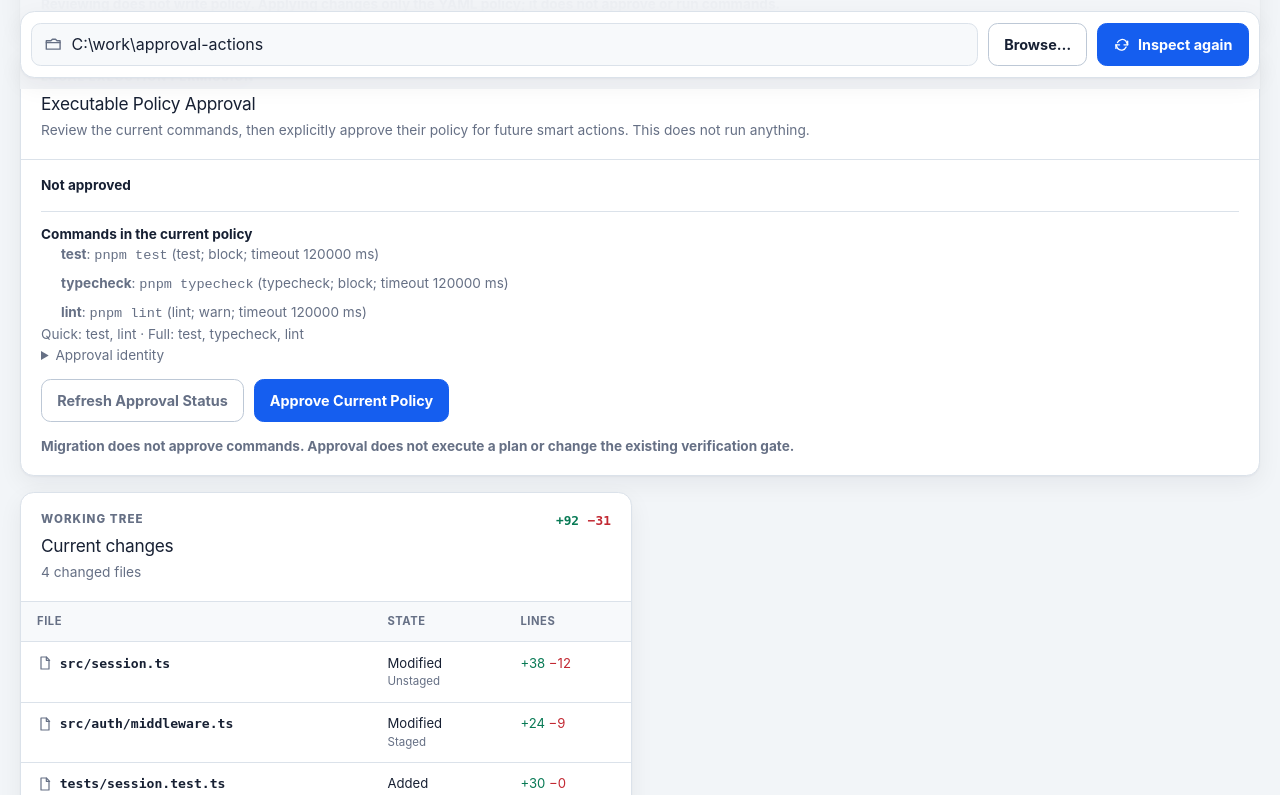
Test: desktop dashboard › explicitly approves the reviewed digest and revokes without running a command
(page scrolled)
Expected: the text "Not approved" is shown, [41,176,131,192]
Expected: the element "Executable Policy Approval" shows "pnpm test", [94,248,168,263]
Click the button "Approve Current Policy": x=351, y=401 [254,379,449,422]
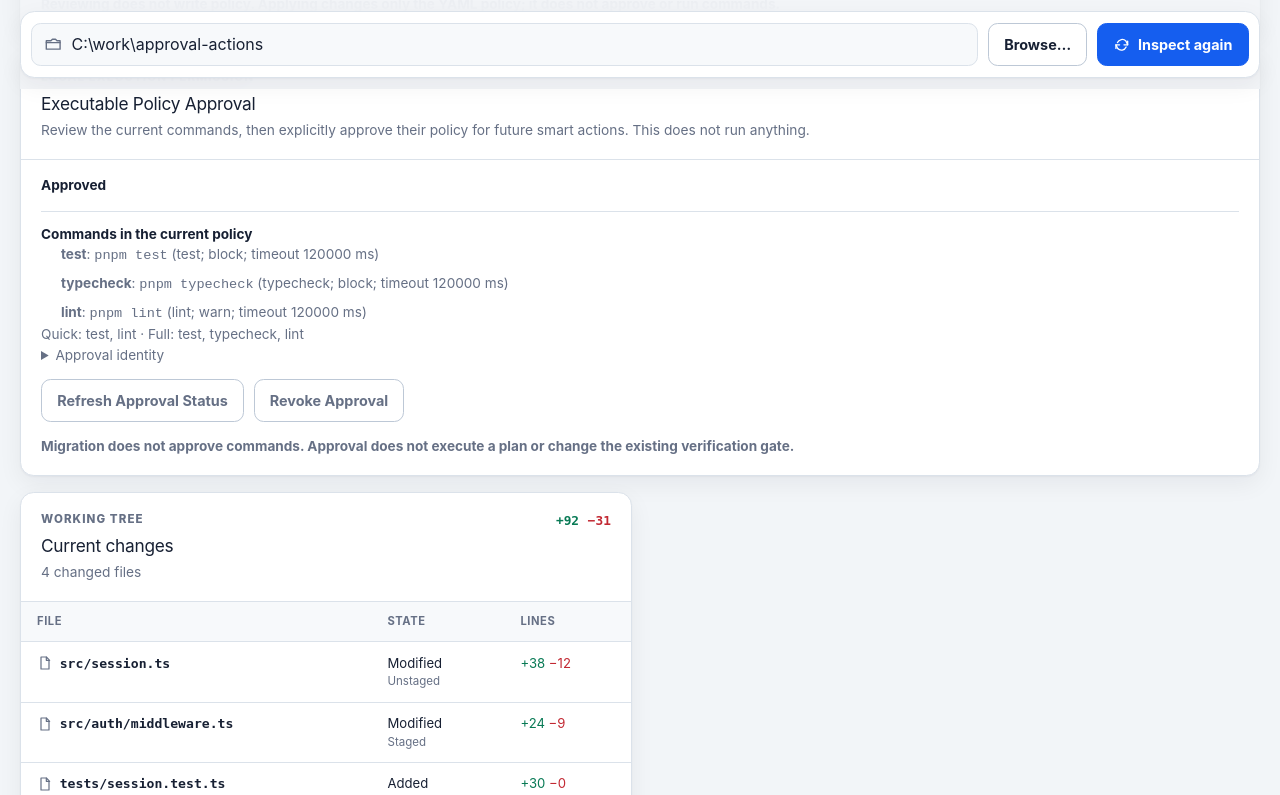
Expected: the text "Approved" is shown, [41,176,106,192]
Click the button "Revoke Approval": x=329, y=401 [254,379,404,422]
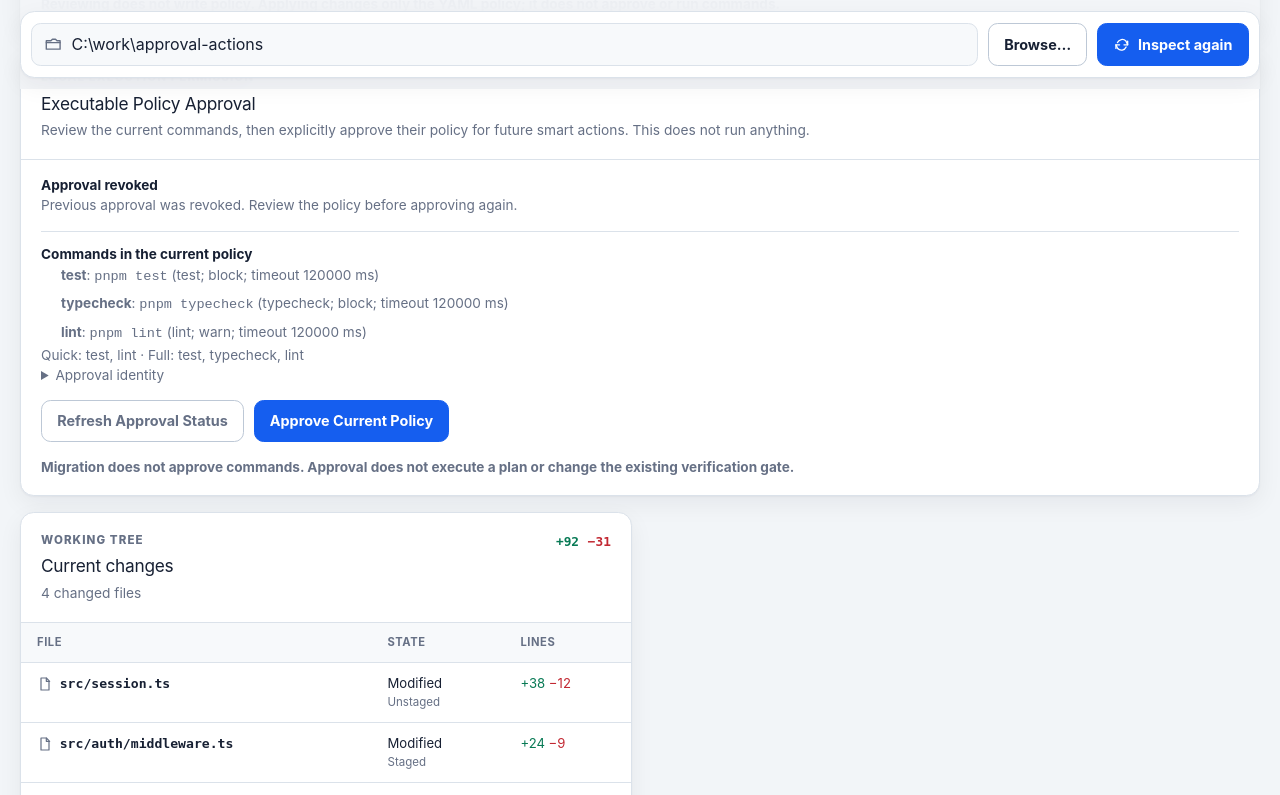
Now the text "Approval revoked" is shown, box [41,176,158,192]
